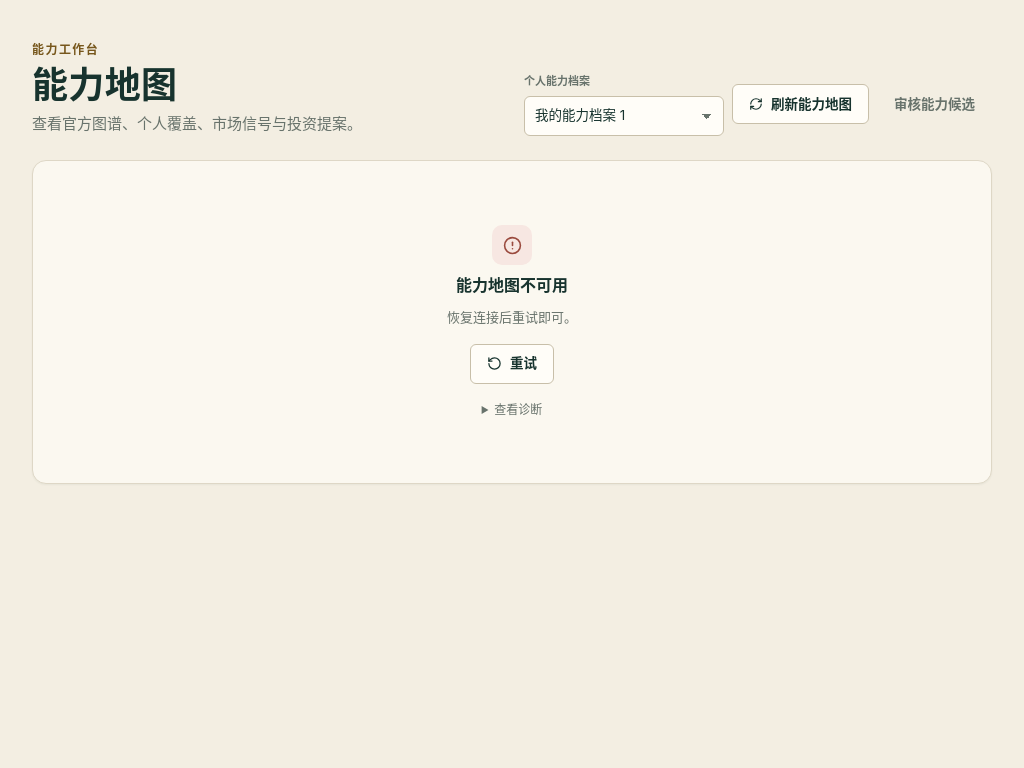
Scenario: CapabilitiesPage › 读取失败时可重试同一档案
Click the button "重试" at [512, 364], box [470,344,554,384]
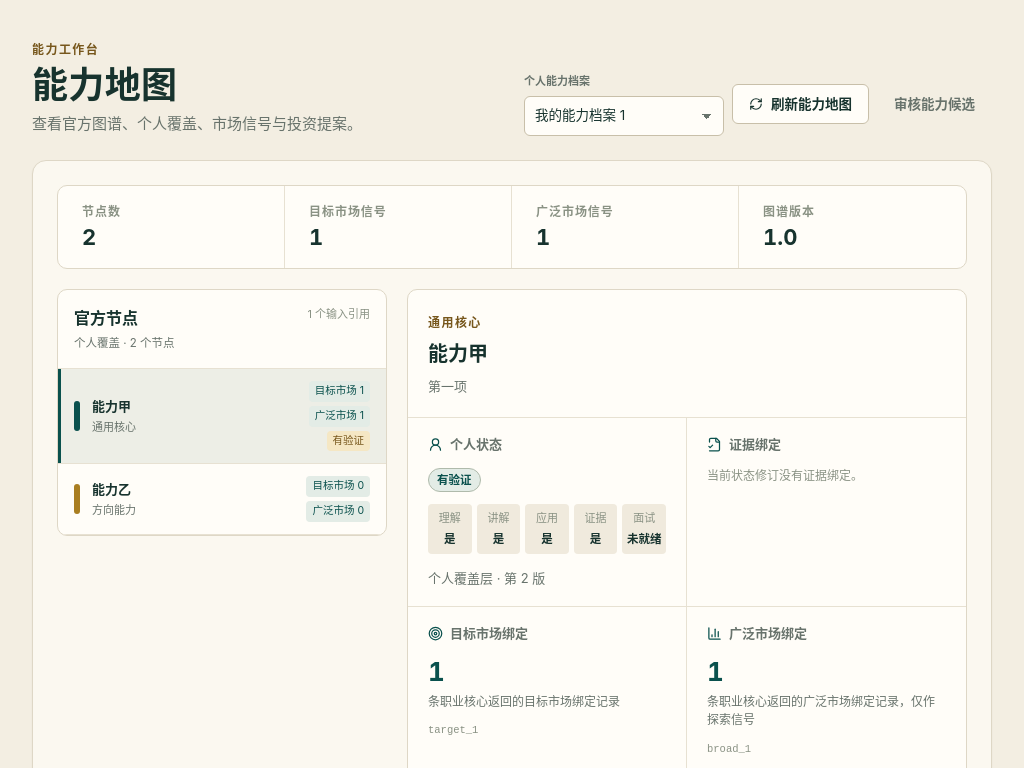
Result: the heading "官方节点" is shown at [74,308,138,328]
